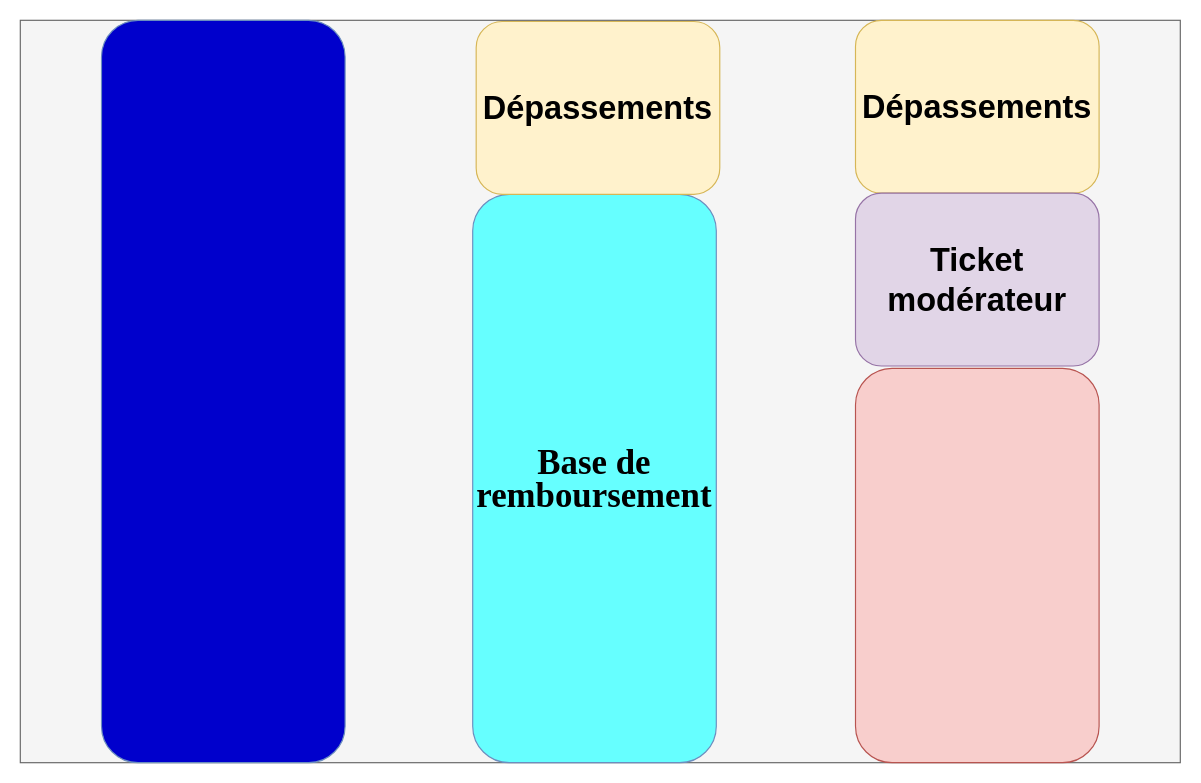
Image size: 1201x783. Some labels were removed from this diagram. The box of each missing label's shape, as (x1, y1, x2, y2) in pixels:
Frais réels: (100, 19, 345, 763)
Remboursement de la sécurité sociale: (854, 367, 1099, 763)
